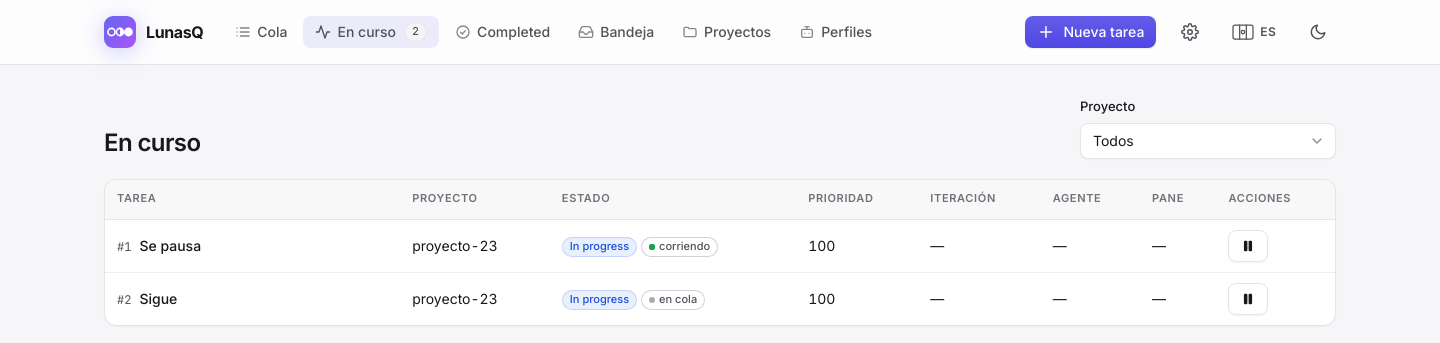
Test case: In progress tab › per-row pause button › on click the task is paused and stops appearing after refreshing
Click the button named "Pausar tarea Se pausa": (1248, 246) top-left (1228, 230), bottom-right (1268, 262)
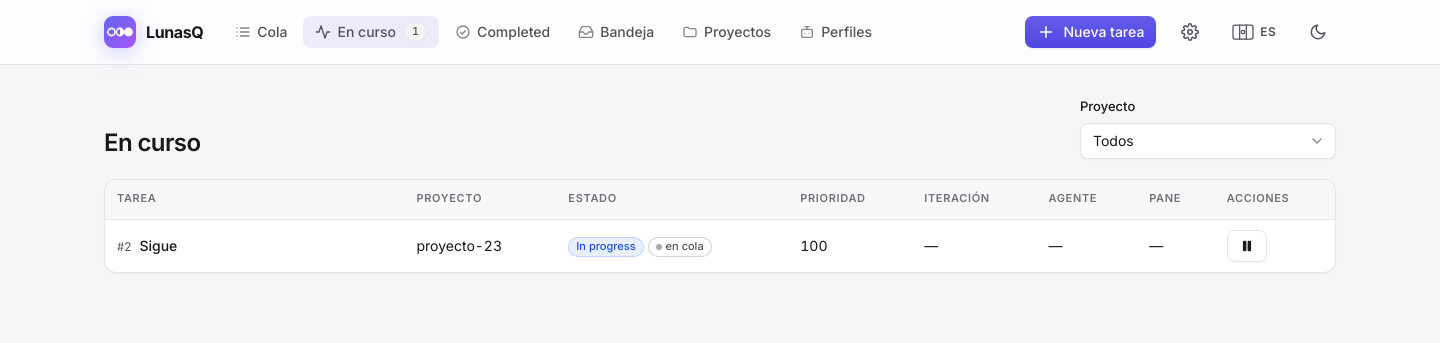
Expected: the link "Sigue" is shown, top-left (139, 236), bottom-right (177, 256)
Expected: the link "Se pausa" is gone
